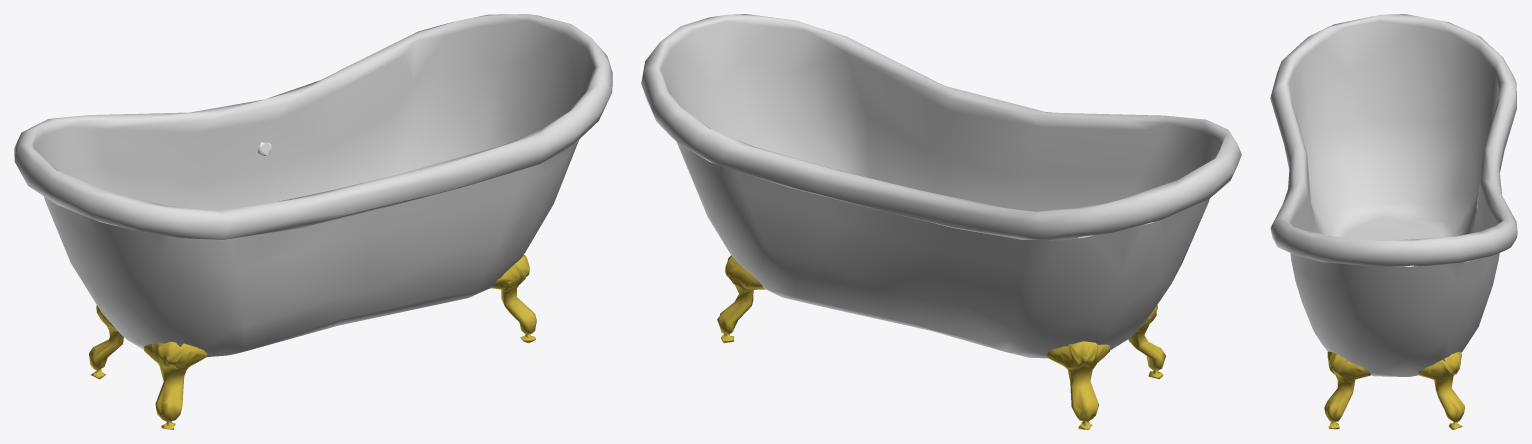
The model's file is classic_bathtub_(1).glb.
The picture shows the model from 3 angles, left to right: view 1: azimuth 30°, elevation 25°; view 2: azimuth 150°, elevation 25°; view 3: azimuth 270°, elevation 25°; orthographic projection. The views are drawn at different scales.
Visible parts, largest first — view 1: Rectangle001_4, Cylinder003_2; view 2: Rectangle001_4, Cylinder003_2; view 3: Rectangle001_4, Cylinder003_2.
Part boxes in pixels (x1,y1,x2,y2): Rectangle001_4: [14, 14, 612, 357]; Cylinder003_2: [89, 255, 536, 421]; Rectangle001_4: [641, 14, 1241, 358]; Cylinder003_2: [717, 255, 1165, 421]; Rectangle001_4: [1270, 14, 1517, 376]; Cylinder003_2: [1324, 351, 1464, 422].
Size of the model in its own units: 1.75 by 0.7798 by 0.7784.
